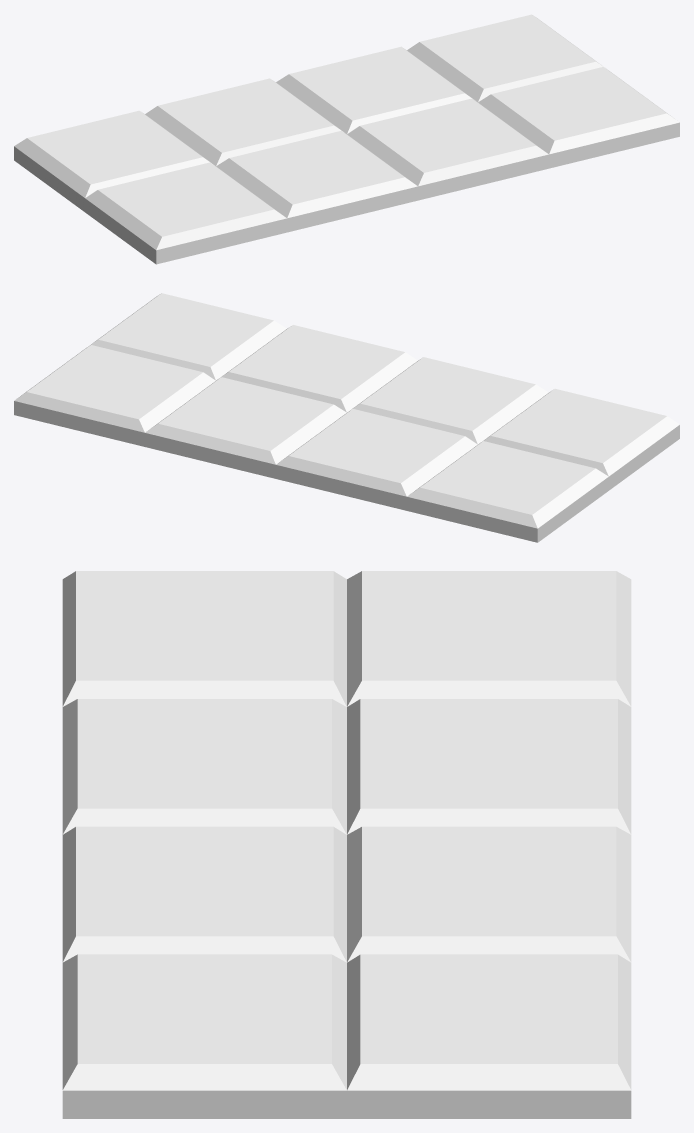
Rendered from chocolate.fbx.
3 renders of one model, top to bottom at view 1: azimuth 30°, elevation 25°; view 2: azimuth 150°, elevation 25°; view 3: azimuth 270°, elevation 25°, orthographic. The views are drawn at different scales.
Parts seen in each view (by area): view 1: chocolate; view 2: chocolate; view 3: chocolate.
Boxes of the visible parts, x1,y1,x2,y2 form: chocolate: (14, 14, 679, 264); chocolate: (14, 293, 679, 542); chocolate: (62, 571, 631, 1118).
Size of the model in its own units: 425 by 17.76 by 200.
